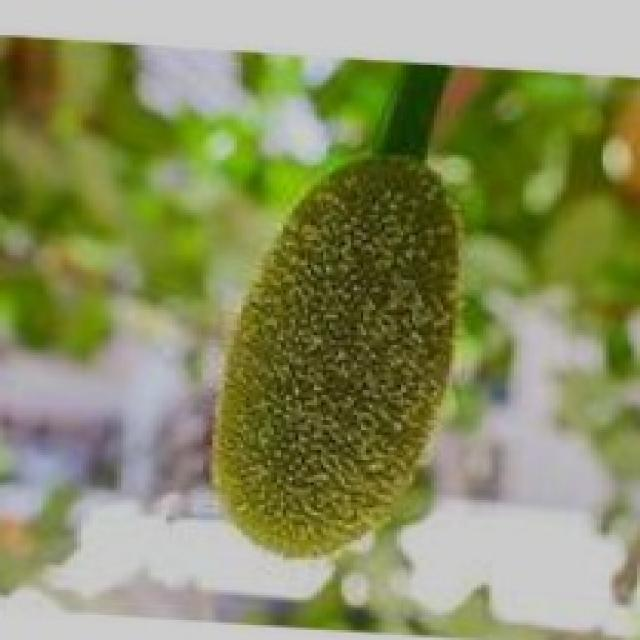Fruit: (188, 138, 508, 572)
